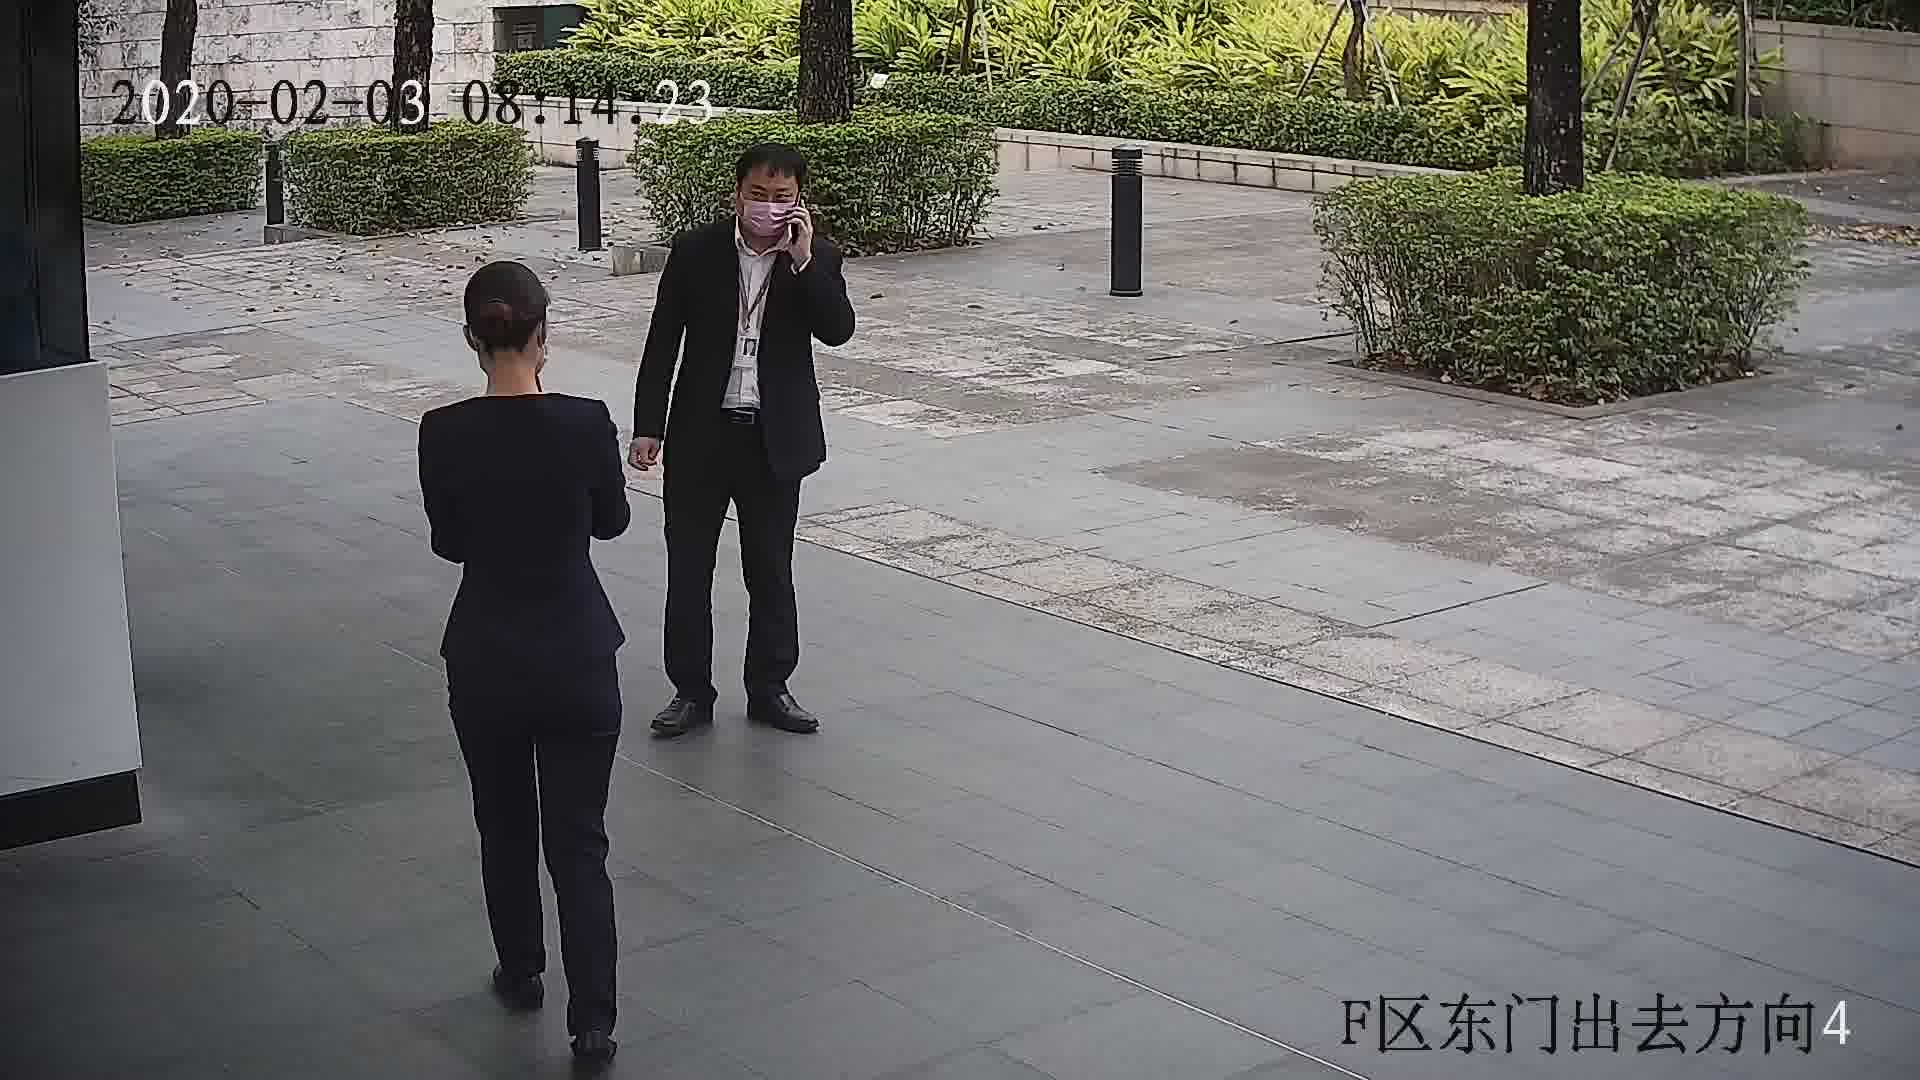face: (733, 172, 797, 236)
mask: (739, 195, 803, 237)
person: (417, 259, 616, 459), (672, 142, 841, 284)
